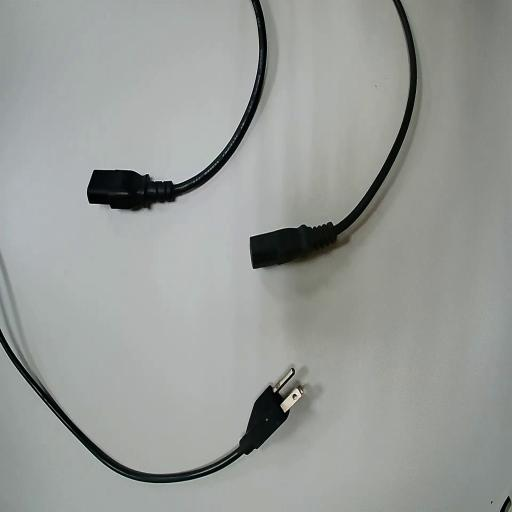wire: (251, 0, 416, 267), (88, 0, 266, 209)
